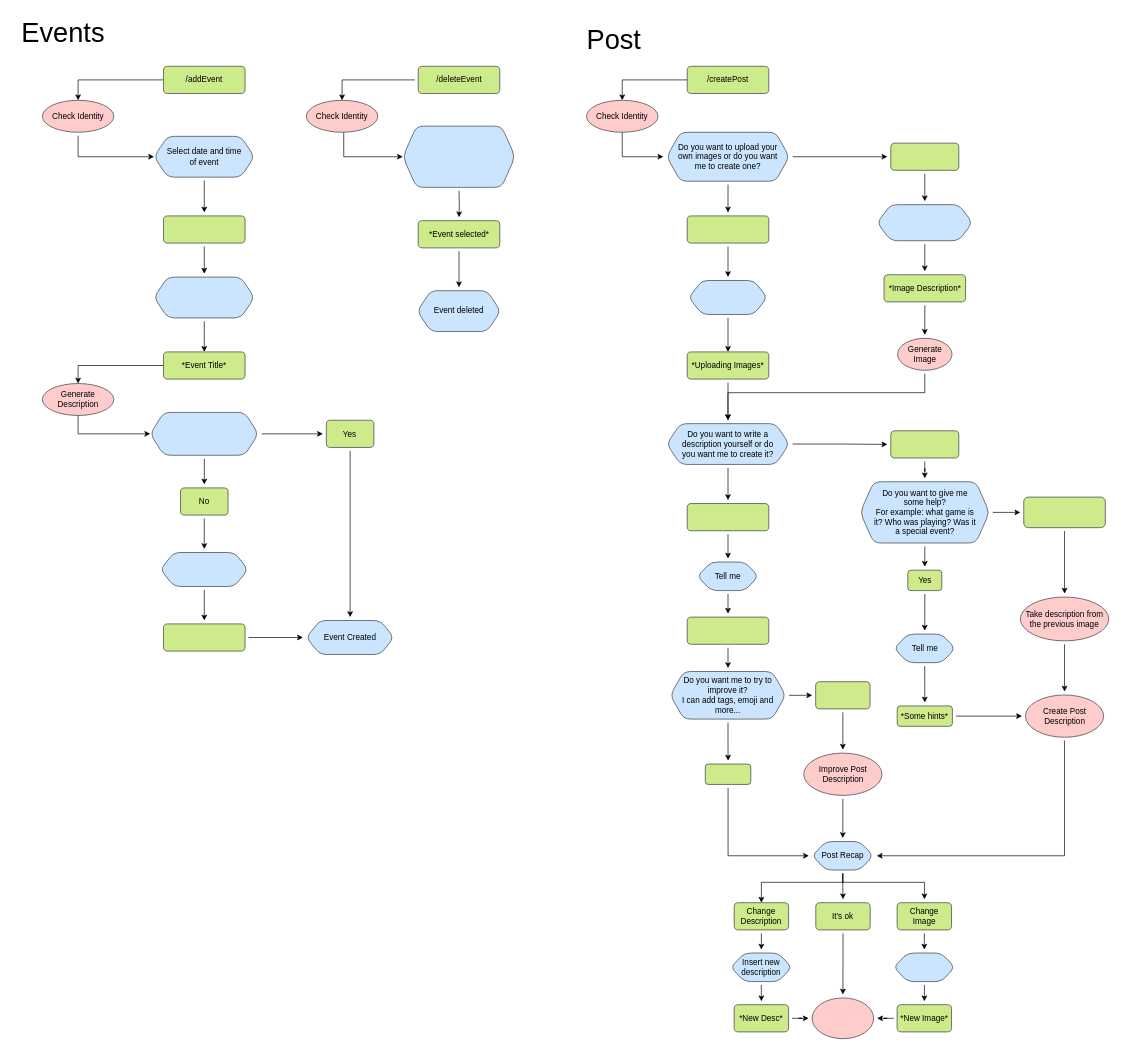
The diagram is 1121 pixels wide and 1051 high, and some of its shapes have lost their labels. The shapes that lost their labels are listed below. From the top down, each one's centre as x and y in pixels, then its label:
At point (458, 156): "You currently have these events scheduled, which one do you want to cancel?".
At point (924, 156): "Create an image by yourself".
At point (204, 229): "*Date and time*".
At point (728, 229): "Use my images".
At point (924, 222): "Enter a description for the image".
At point (203, 297): "Enter the title of the event".
At point (727, 297): "Upload your images".
At point (204, 433): "Does this description fit the event? *Event Description*".
At point (924, 444): "Write something for me".
At point (728, 517): "Let me write one".
At point (1064, 512): "No, you can use the images above".
At point (204, 569): "Insert your description".
At point (204, 637): "*Event Description*".
At point (728, 630): "*Post Description*".
At point (842, 695): "Yes, amaze me".
At point (728, 773): "No, this is good".
At point (924, 967): "Upload new image".
At point (842, 1018): "Create Post".
